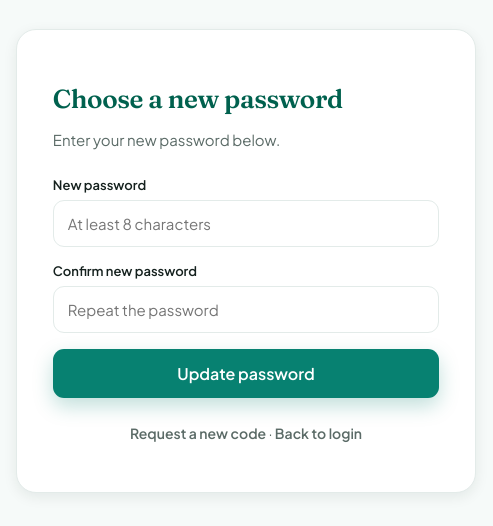
Test: Given a user on the reset password page › when passwords do not match, then an inline error appears
Type "GoodPass123!" into the password field labelled "New password".
click(246, 224); type("GoodPass123!")  # box [53,200,439,247]
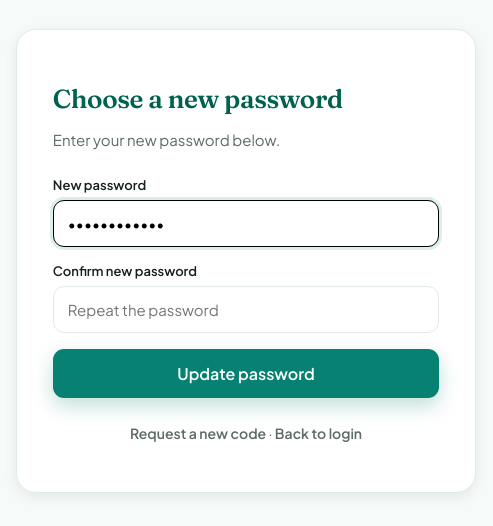
Type "Different!" into the password field labelled "Confirm new password".
click(246, 310); type("Different!")  # box [53,286,439,333]
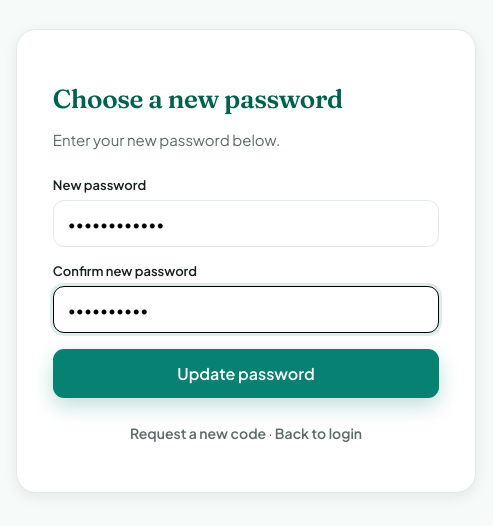
Click the button "Update password".
click(246, 374)  # box [53,349,439,398]
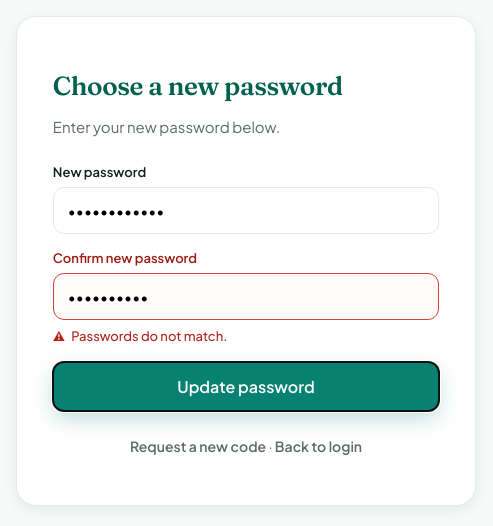
Expected: the text "Passwords do not match." is shown, [71,328,227,344]
